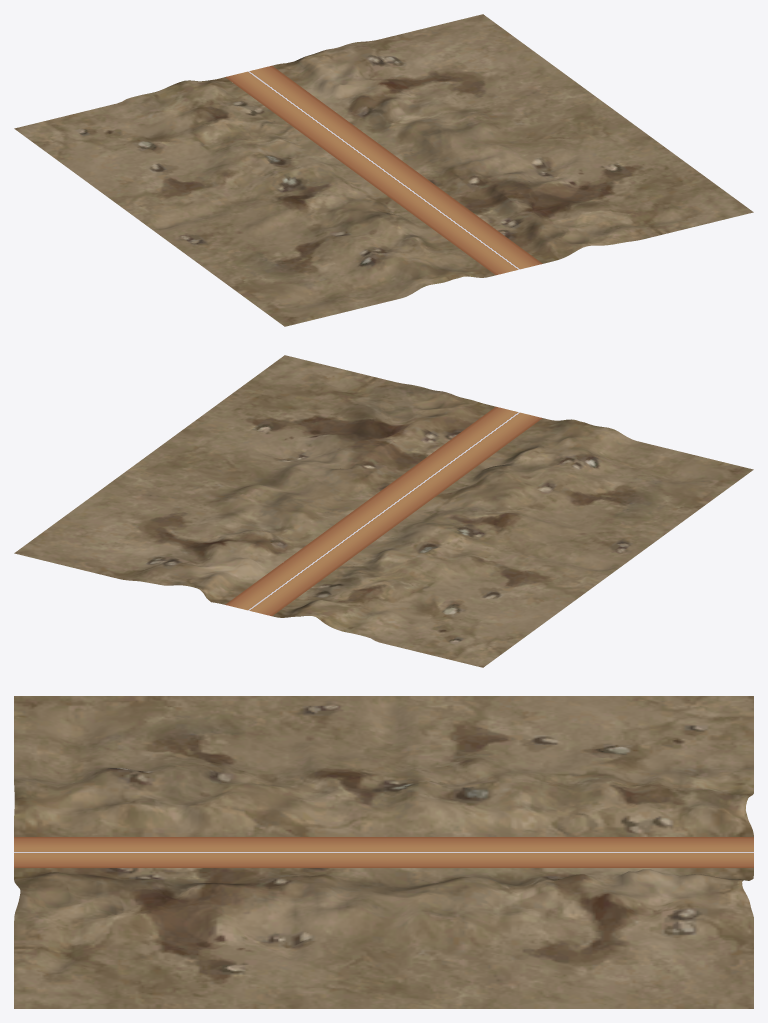
Rendered from M_dibiao01.FBX.
3 renders of one model, top to bottom at view 1: azimuth 30°, elevation 25°; view 2: azimuth 150°, elevation 25°; view 3: azimuth 270°, elevation 25°, orthographic. The views are drawn at different scales.
Visible parts, largest first — view 1: M_dibiao01_01, M_dibiao01_02; view 2: M_dibiao01_01, M_dibiao01_02; view 3: M_dibiao01_01, M_dibiao01_02.
Part boxes in pixels (left/top/right/bottom): M_dibiao01_01: left=14, top=14, right=753, bottom=326; M_dibiao01_02: left=225, top=65, right=542, bottom=275; M_dibiao01_01: left=14, top=355, right=753, bottom=667; M_dibiao01_02: left=225, top=406, right=542, bottom=616; M_dibiao01_01: left=14, top=696, right=753, bottom=1008; M_dibiao01_02: left=14, top=837, right=753, bottom=867.
Size of the model in its own units: 100 by 3.4 by 100.
